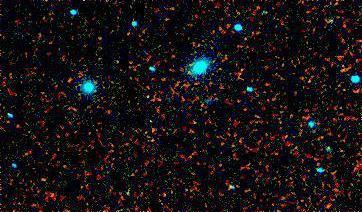star: (182, 105, 212, 135)
